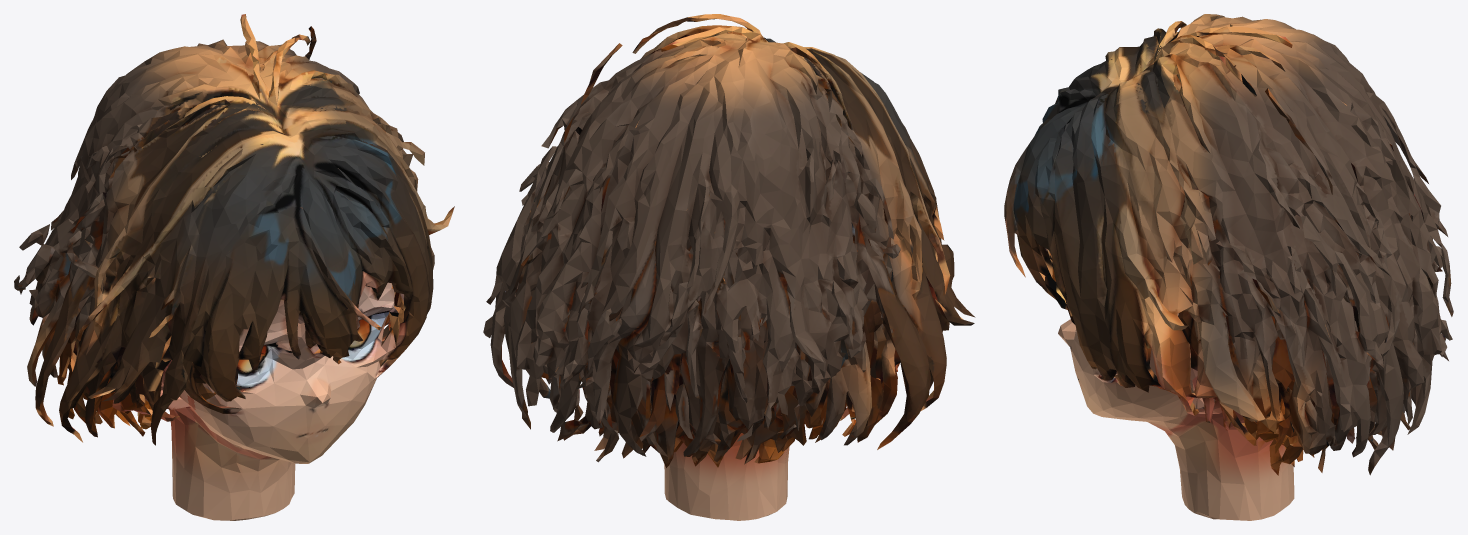
The model's file is side_gontaboy_repaired_atlas.glb.
The picture shows the model from 3 angles, left to right: view 1: azimuth 30°, elevation 25°; view 2: azimuth 150°, elevation 25°; view 3: azimuth 270°, elevation 25°; orthographic projection. The views are drawn at different scales.
Visible parts, largest first — view 1: temp_mesh.ply; view 2: temp_mesh.ply; view 3: temp_mesh.ply.
Boxes of the visible parts, x1,y1,x2,y2 form: temp_mesh.ply: (14,14,454,520); temp_mesh.ply: (483,14,975,520); temp_mesh.ply: (1004,14,1453,520).
Bounding box in the file's own units: 1.2 × 1.34 × 1.14.
1 material, 1 textured.
